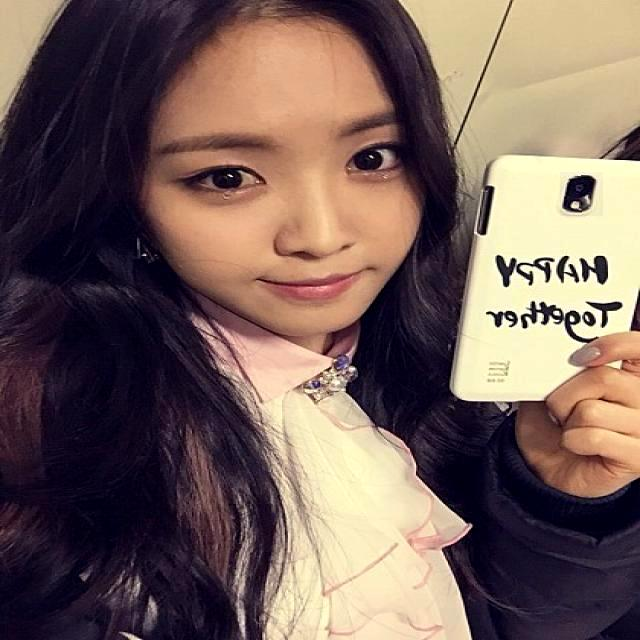lens_back: (560, 173, 603, 216)
phone: (449, 152, 638, 408)
